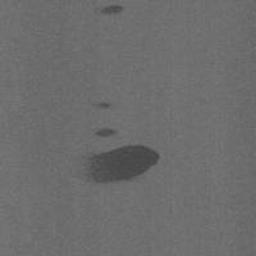Oil spot: (74, 143, 160, 186), (93, 127, 119, 140), (100, 3, 124, 17), (92, 101, 115, 111)
